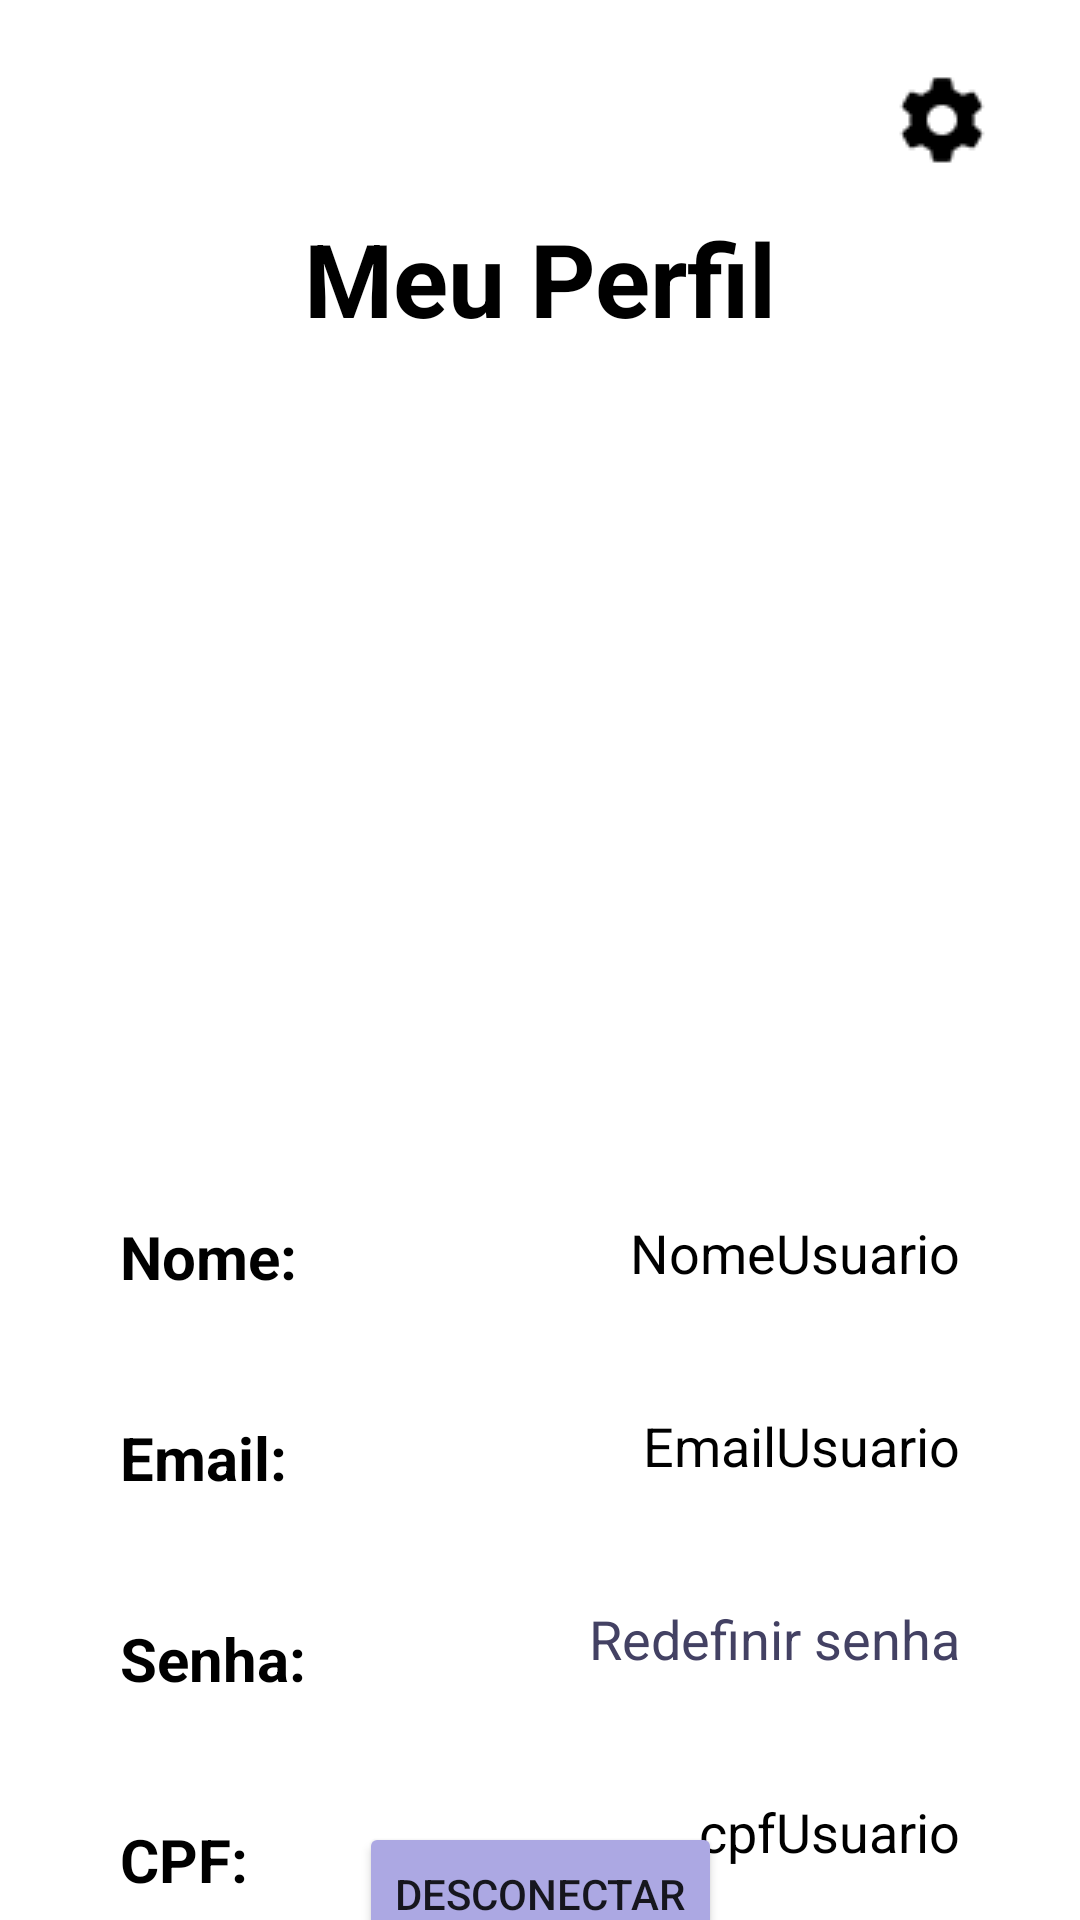

Screen size 1080×1920. Icon name, then its center in pixels as [x,y]:
ferramentas: [942,120]
